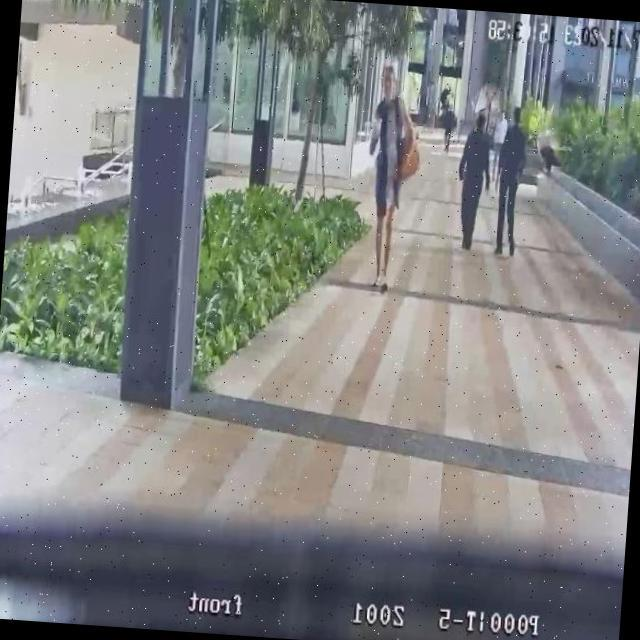person: (360, 61, 412, 296), (452, 108, 496, 252), (490, 104, 530, 258), (490, 107, 508, 186), (439, 102, 456, 154)
